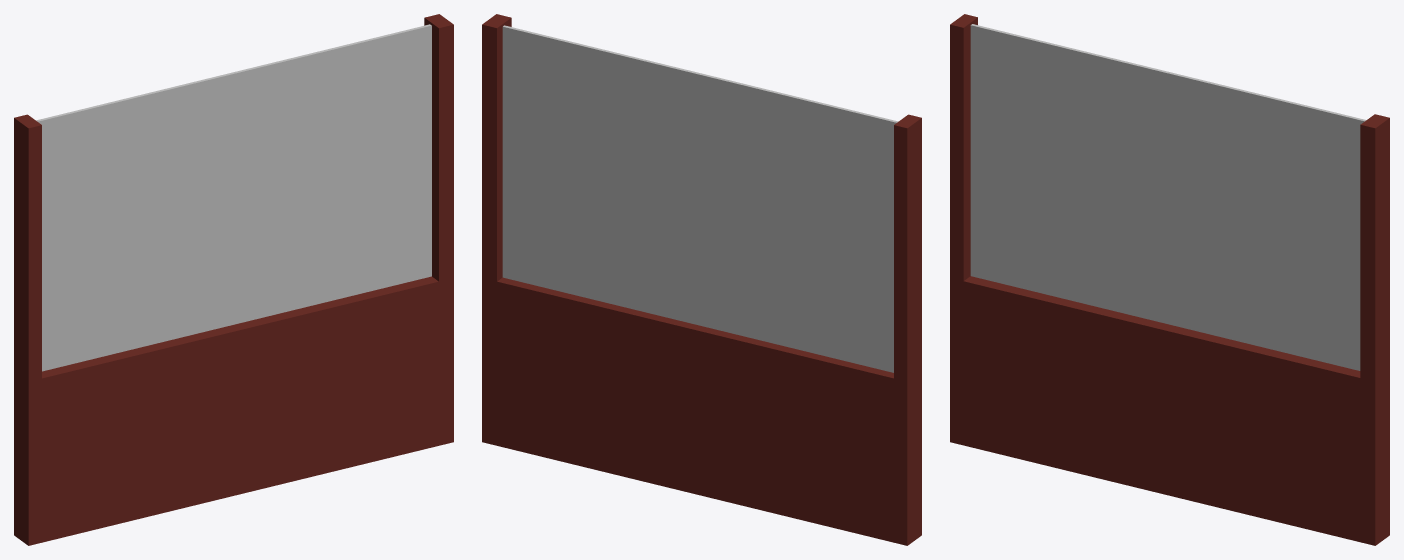
File: fence_6.fbx
The picture shows the model from 3 angles, left to right: view 1: azimuth 30°, elevation 25°; view 2: azimuth 150°, elevation 25°; view 3: azimuth 330°, elevation 25°; orthographic projection.
Visible parts, largest first — view 1: fence_6; view 2: fence_6; view 3: fence_6.
Part boxes in pixels (<box>): fence_6: <box>14,14,453,545</box>; fence_6: <box>482,14,921,545</box>; fence_6: <box>950,14,1389,545</box>.
Bounding box in the file's own units: 3.27 × 3.07 × 0.1927.
